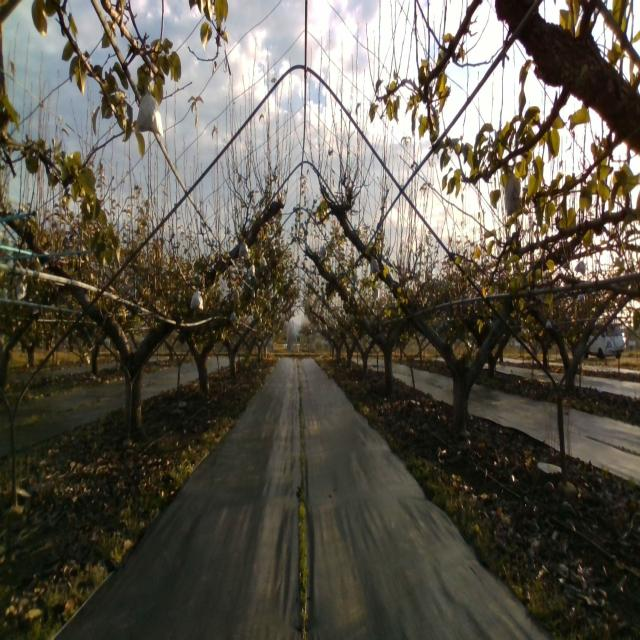pearbags: (134, 80, 162, 136), (504, 164, 522, 216), (190, 286, 203, 311), (238, 239, 249, 259), (370, 256, 380, 274)
